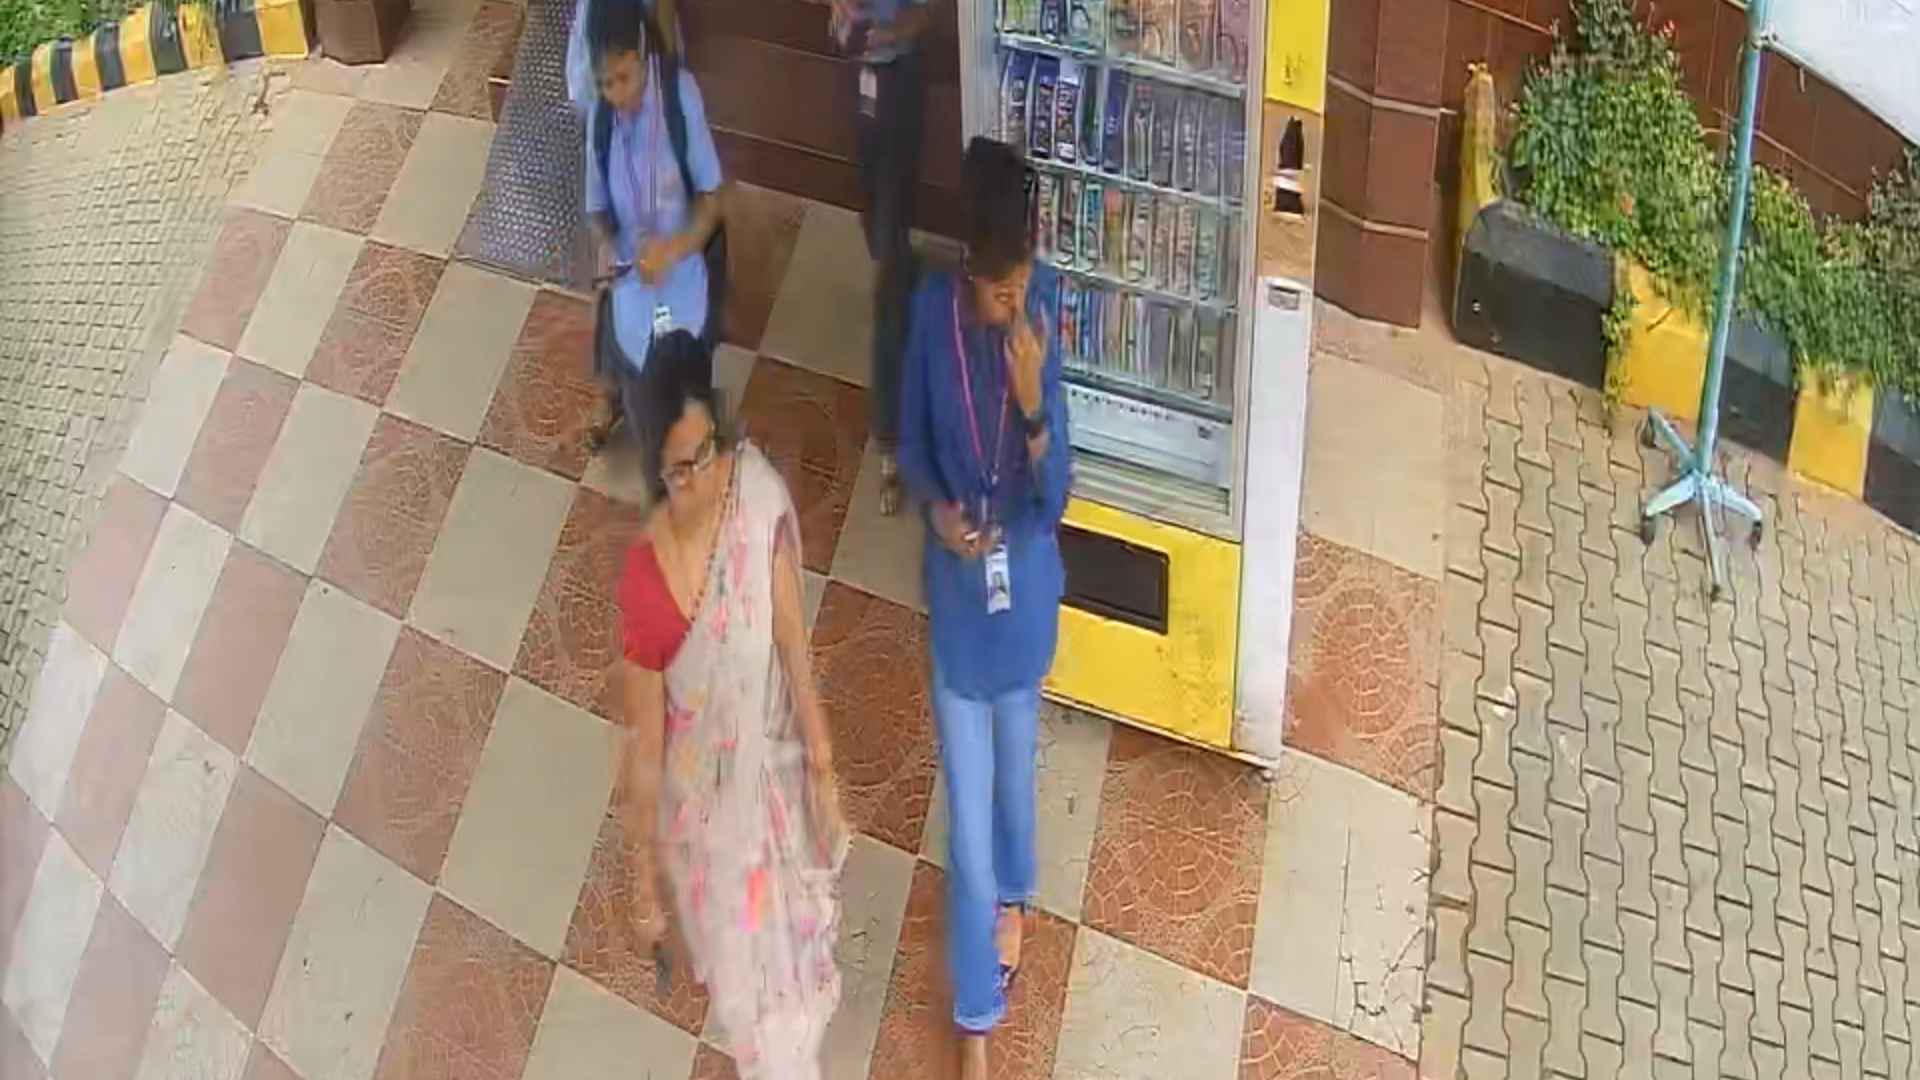intruder: (593, 330, 858, 1080)
not intruder: (911, 131, 1091, 1067), (564, 1, 777, 400)
